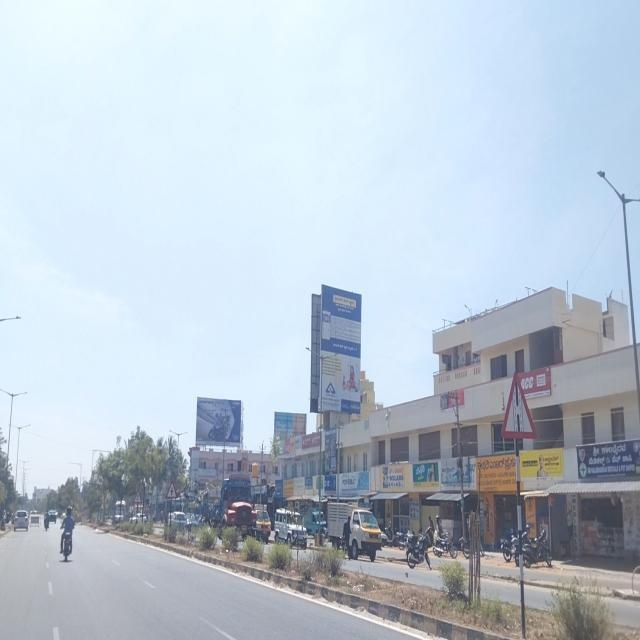bien_nguy_hiem: (499, 368, 538, 438), (165, 480, 178, 499)
